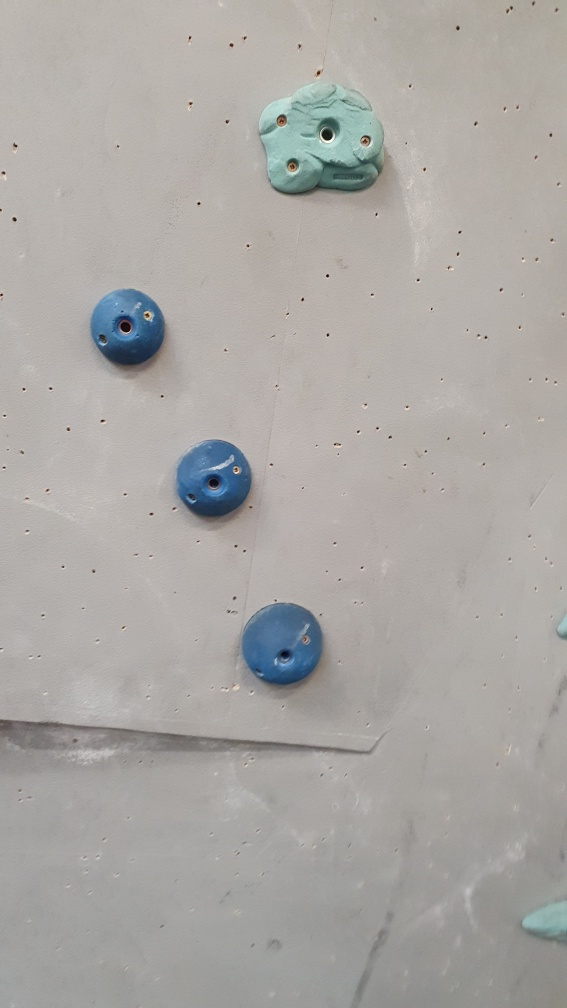Sloper: (164, 428, 259, 525), (240, 598, 328, 689), (89, 284, 174, 365)
